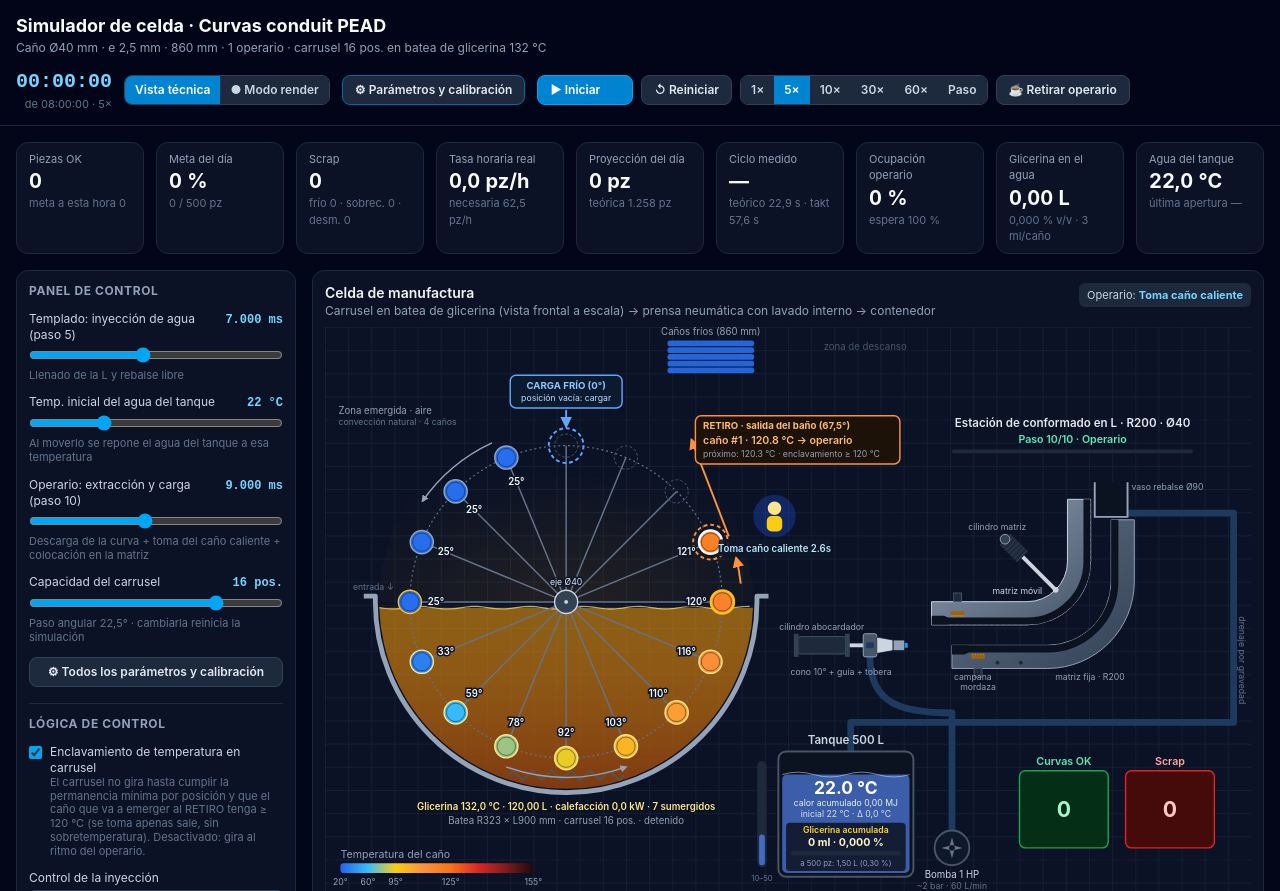
it: panel de parámetros y calibración › recalcula ciclo, margen contra el takt y balance al instante al mover templado u operario
Click the button "⚙ Parámetros y calibración".
click(434, 90)  # box left=342, top=75, right=526, bottom=105
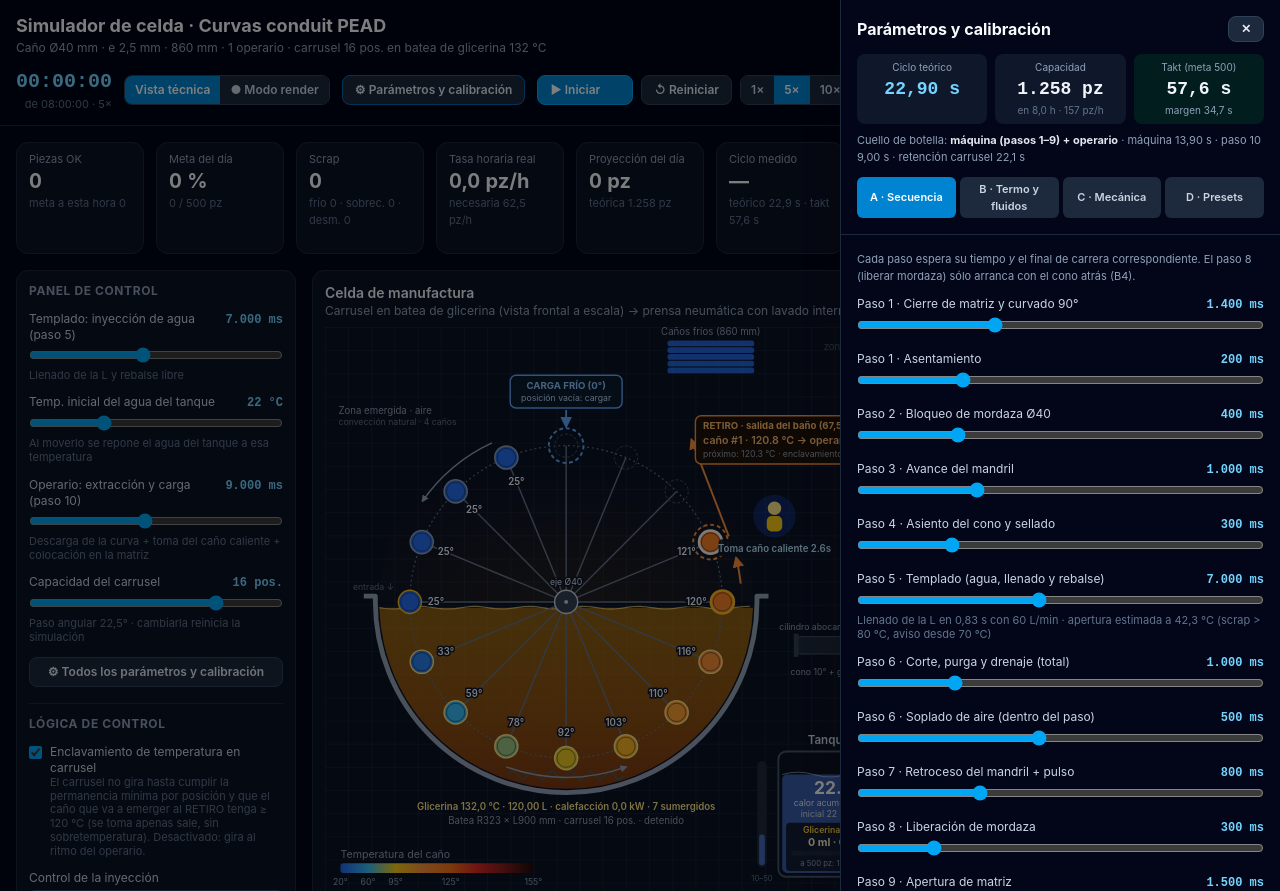
Expected: the text with test id "drawer-cycle" reads "22,90 s", left=884, top=79, right=960, bottom=99
Expected: the text with test id "drawer-takt" reads "57,6 s", left=1166, top=79, right=1231, bottom=99
Expected: the text with test id "drawer-takt-margin" reads "margen 34,7 s", left=1165, top=104, right=1233, bottom=116
Set the slider labelled "Paso 5 · Templado (agua, llenado y rebalse)" to "9000" at [1126, 600], box left=857, top=592, right=1264, bottom=608
(page scrolled)
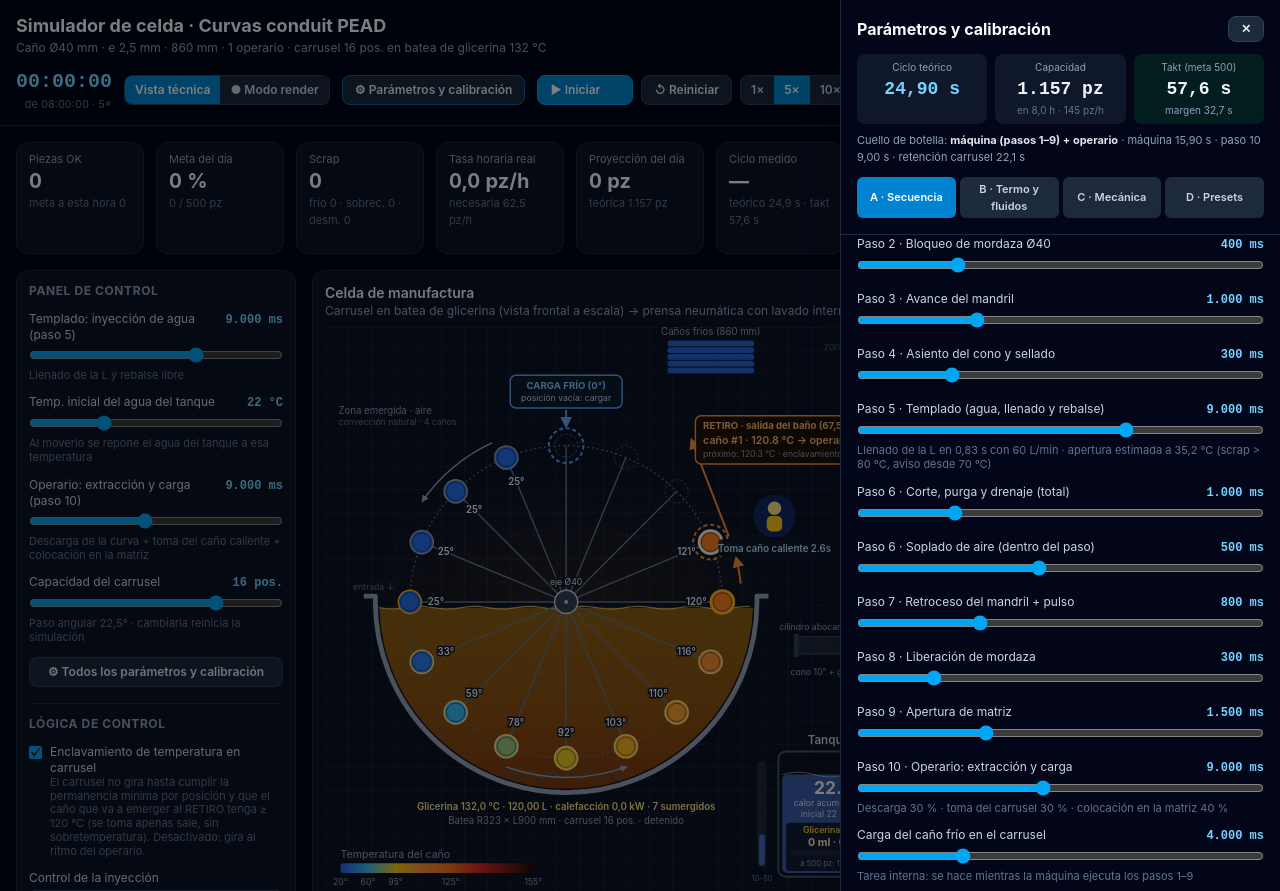
Expected: the text with test id "drawer-cycle" reads "24,90 s", left=884, top=79, right=960, bottom=99
Expected: the text with test id "drawer-takt-margin" reads "margen 32,7 s", left=1165, top=104, right=1233, bottom=116
Expected: the element with test id "kpi-cycle" shows "teórico 24,9 s", left=729, top=196, right=829, bottom=226
Set the slider labelled "Paso 10 · Operario: extracción y carga" to "12000" at [1149, 788], box left=857, top=780, right=1264, bottom=796
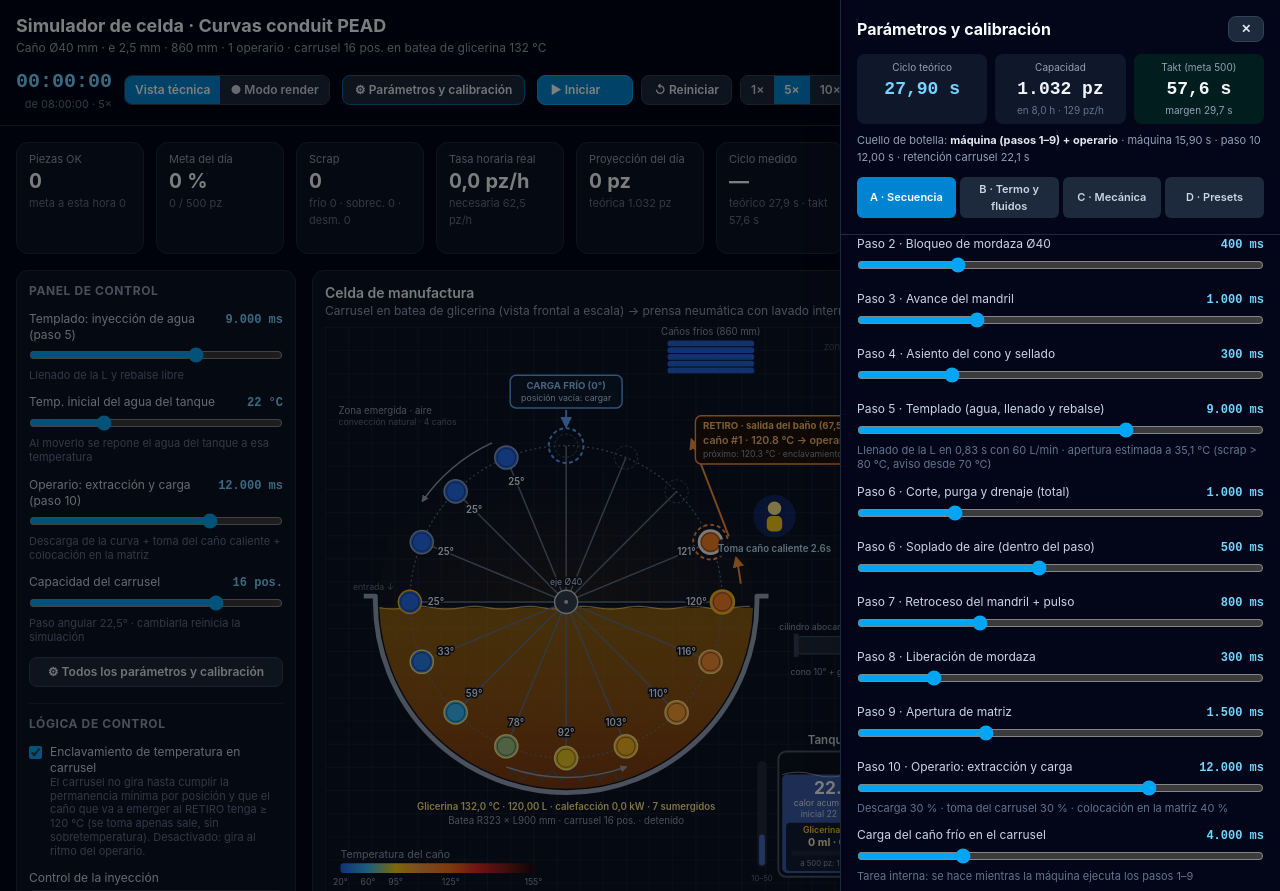
Expected: the text with test id "drawer-takt" reads "57,6 s", left=1166, top=79, right=1231, bottom=99
Expected: the text with test id "drawer-cycle" reads "27,90 s", left=884, top=79, right=960, bottom=99
